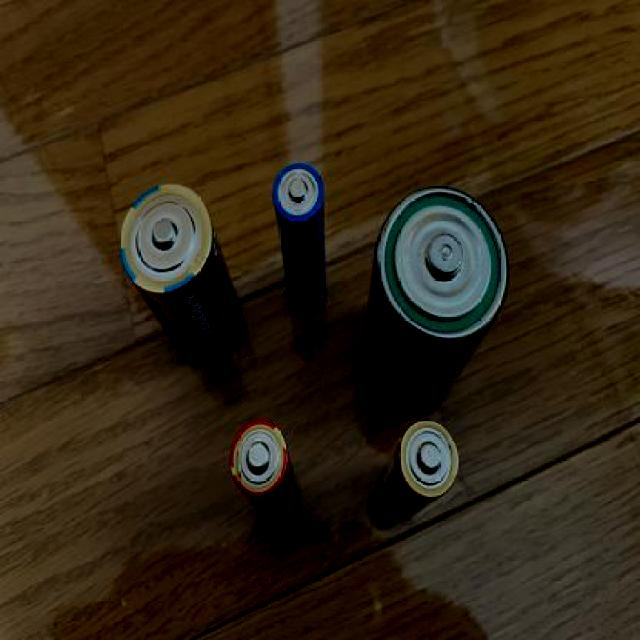AA: (375, 417, 463, 523)
AAA: (270, 156, 329, 315), (228, 415, 302, 528)
